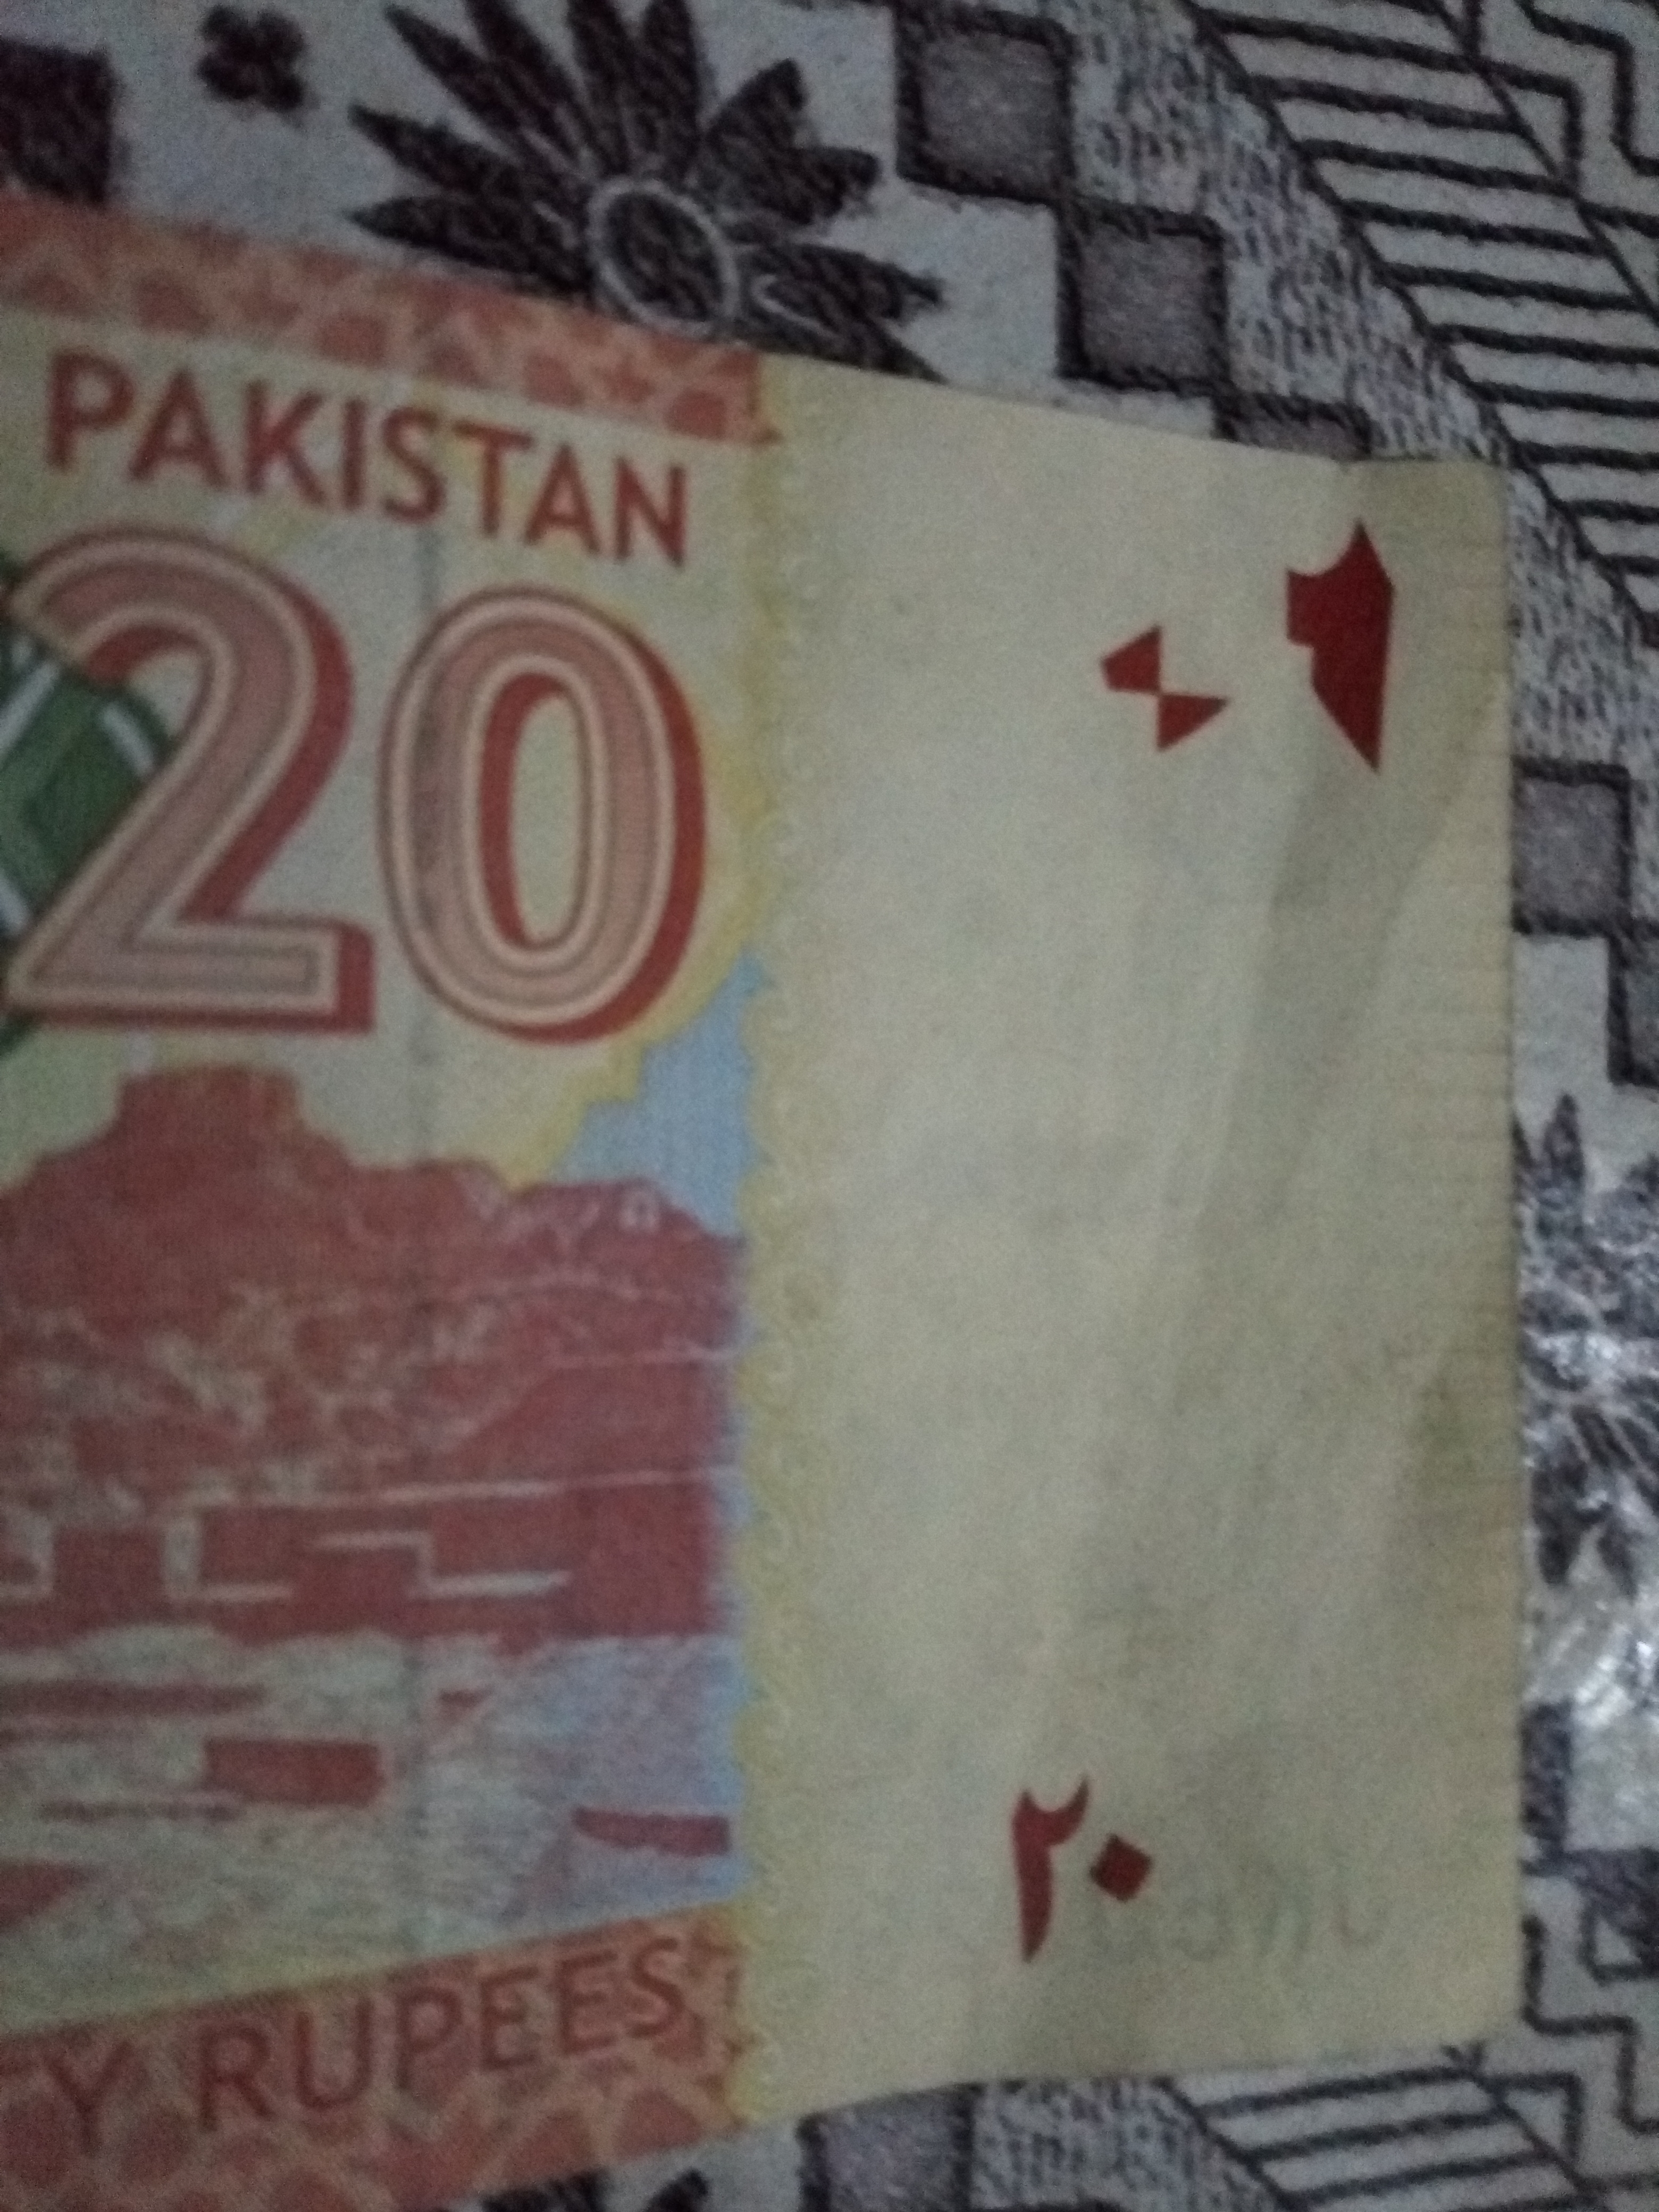20 rupee: (0, 207, 1577, 2212)
